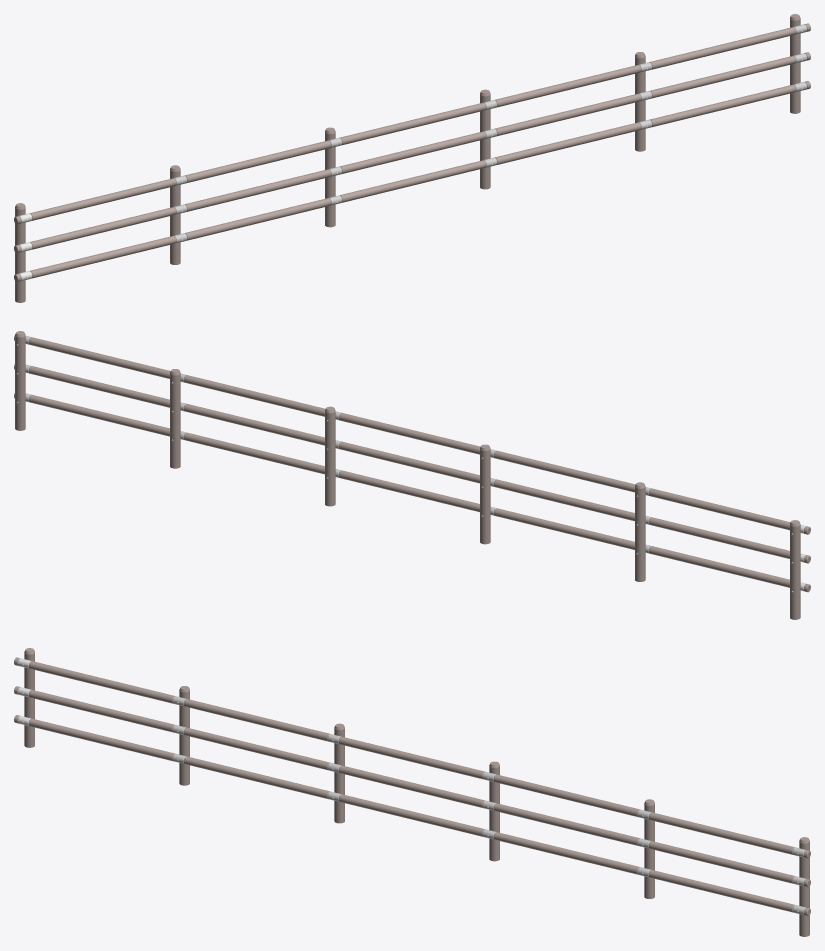
File: 1043_guard_fence_5.glb
The picture shows the model from 3 angles, top to bottom: view 1: azimuth 30°, elevation 25°; view 2: azimuth 150°, elevation 25°; view 3: azimuth 330°, elevation 25°; orthographic projection.
Visible parts, largest first — view 1: Body; view 2: Body; view 3: Body.
Part boxes in pixels (x1,y1,x2,y2): Body: [14, 14, 810, 302]; Body: [14, 331, 810, 619]; Body: [14, 648, 810, 936].
Bounding box in the file's own units: 10.24 × 1.18 × 0.2256.
